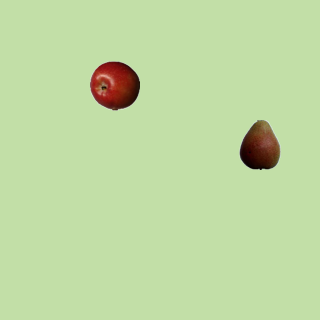Apple Braeburn: (89, 60, 139, 110)
Pear Forelle: (234, 119, 284, 169)
